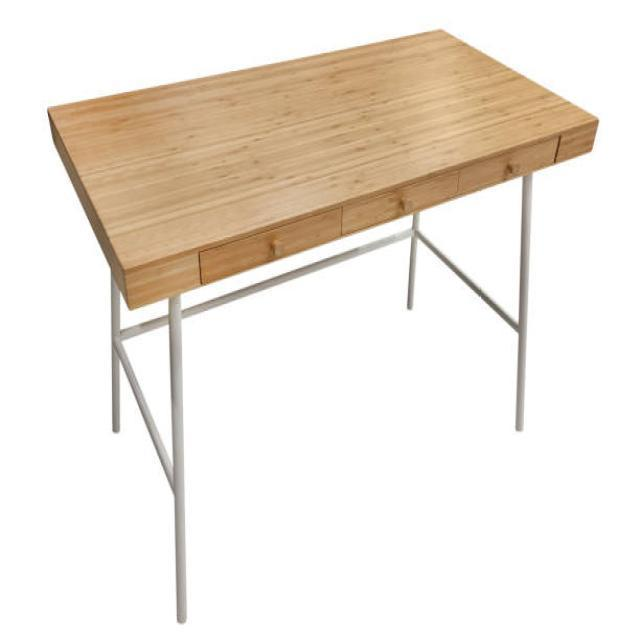table: (46, 26, 599, 624)
